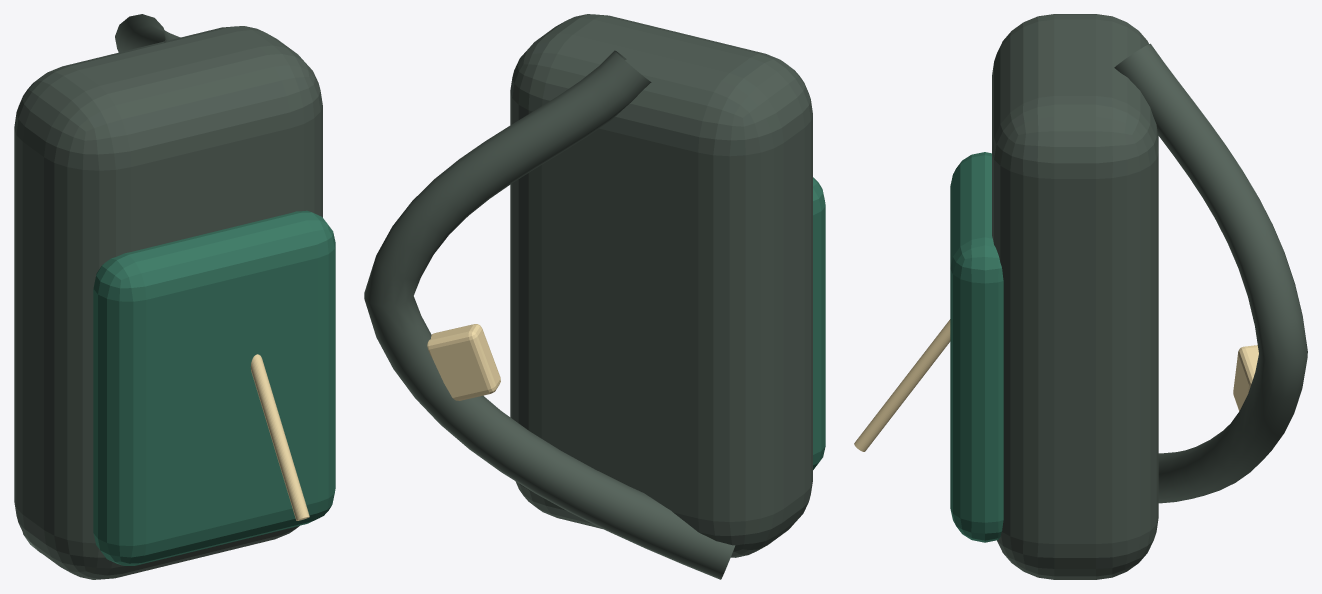
Rendered from sentia_slg04.glb.
3 views of the same model, side by side, from view 1: azimuth 30°, elevation 25°; view 2: azimuth 150°, elevation 25°; view 3: azimuth 270°, elevation 25° (orthographic). The views are drawn at different scales.
Visible parts, largest first — view 1: Sling_Main_Body, Front_Diagonal_Pocket, Diagonal_Zipper, Sling_Strap; view 2: Sling_Main_Body, Sling_Strap, Quick_Release_Buckle, Front_Diagonal_Pocket; view 3: Sling_Main_Body, Sling_Strap, Front_Diagonal_Pocket, Diagonal_Zipper, Quick_Release_Buckle.
Boxes of the visible parts, x1,y1,x2,y2 form: Sling_Main_Body: (14,26,322,579); Front_Diagonal_Pocket: (93,210,335,565); Diagonal_Zipper: (250,354,309,520); Sling_Strap: (23,14,180,552); Sling_Main_Body: (510,14,812,557); Sling_Strap: (364,50,735,579); Quick_Release_Buckle: (427,324,500,400); Front_Diagonal_Pocket: (813,177,825,469); Sling_Main_Body: (992,14,1158,579); Sling_Strap: (1114,43,1307,503); Front_Diagonal_Pocket: (950,152,1003,542); Diagonal_Zipper: (854,319,950,451); Quick_Release_Buckle: (1233,345,1258,411).
Bounding box in the file's own units: 0.2674 × 0.3993 × 0.3266.
